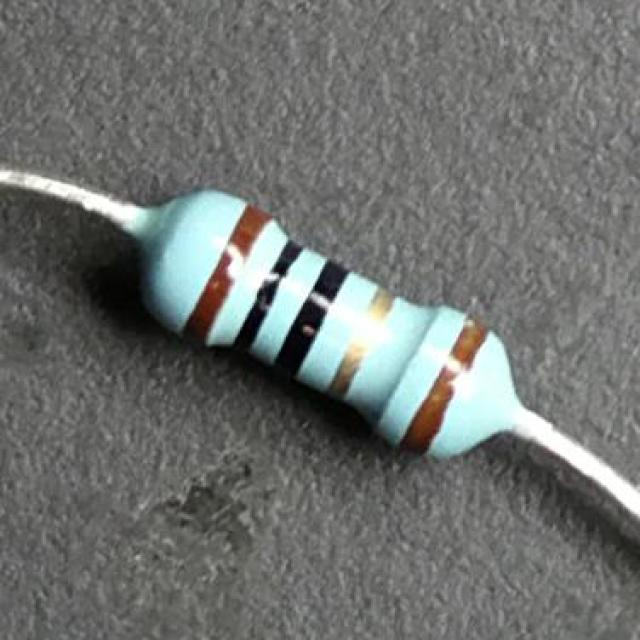Resistor: (140, 191, 519, 456)
black: (234, 232, 306, 364), (275, 261, 348, 388)
brown: (399, 312, 491, 468), (181, 200, 270, 359)
gold: (324, 283, 399, 413)
